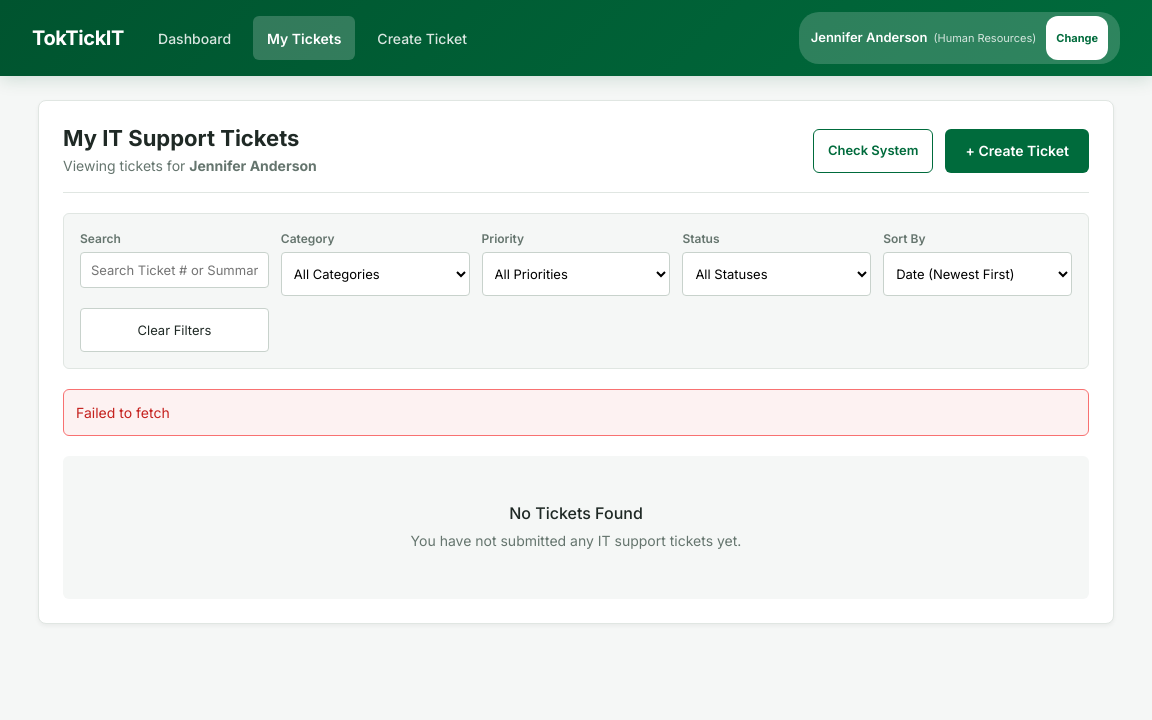
App › shows an Offline error message when the API is unavailable
This screenshot has width=1152, height=720.
Click the button "Check System". click: (873, 151)
box: [813, 129, 934, 173]
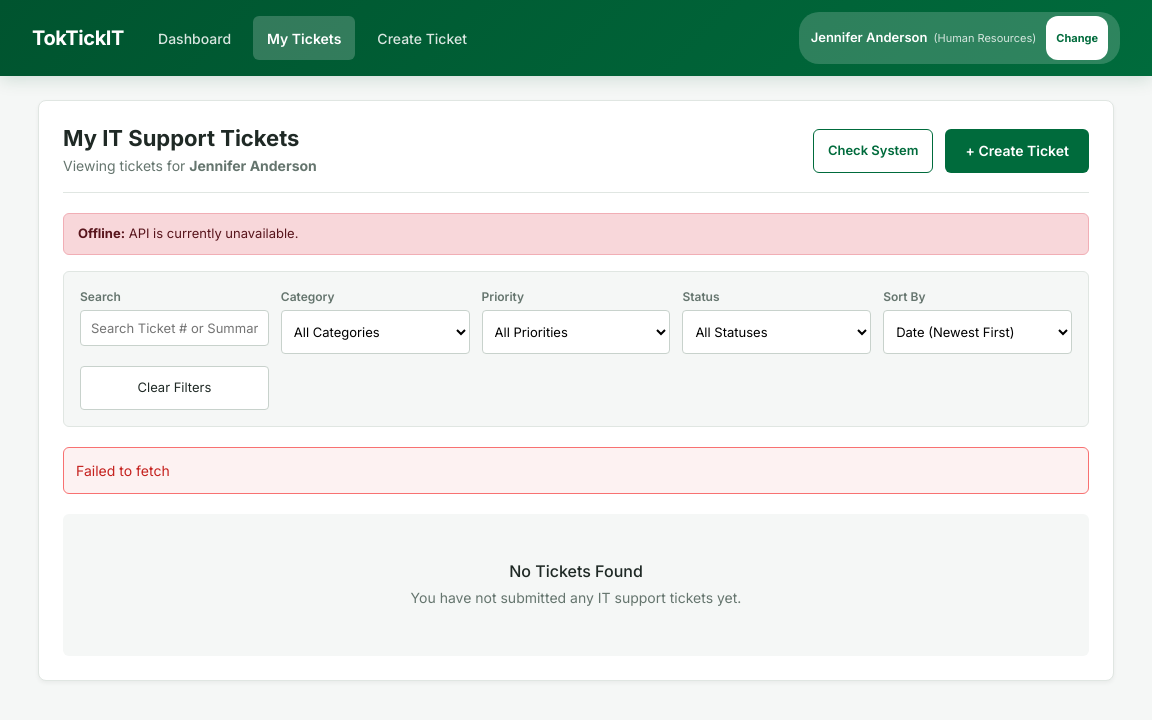
Check: the text "Offline:" is shown, box [78, 225, 125, 241]
Check: the text "Offline: API is currently unavailable." is shown, box [63, 213, 1089, 255]
